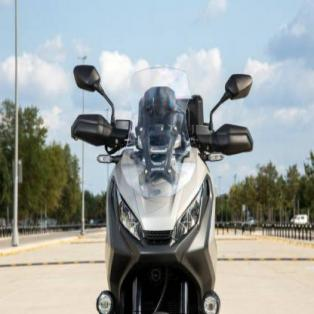Motocicleta: (67, 45, 259, 314)
